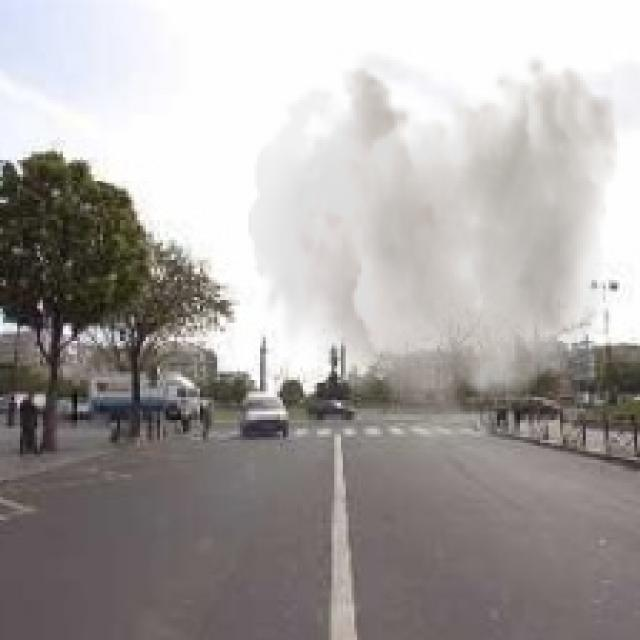Smoke: (248, 54, 620, 454)
